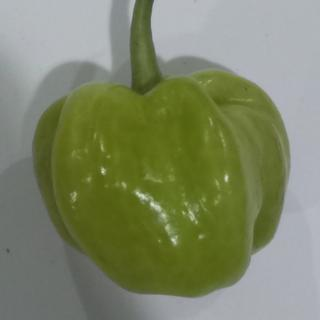Grade-B: (27, 62, 297, 300)
